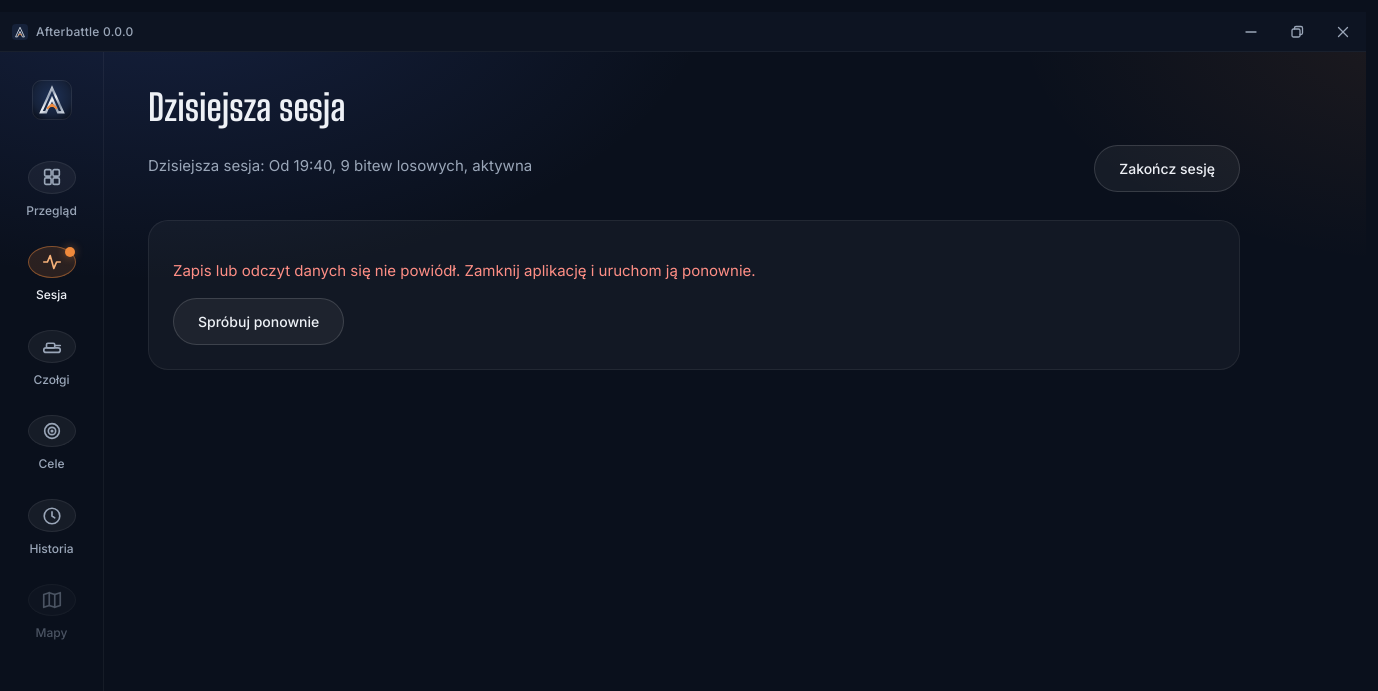
Test case: Session screen › explains an error and retries
Check: the message shows "Zapis lub odczyt danych się nie powiódł", box [173,261,756,280]
Click the button "Spróbuj ponownie". click: x=259, y=321
box: [173,298,344,345]
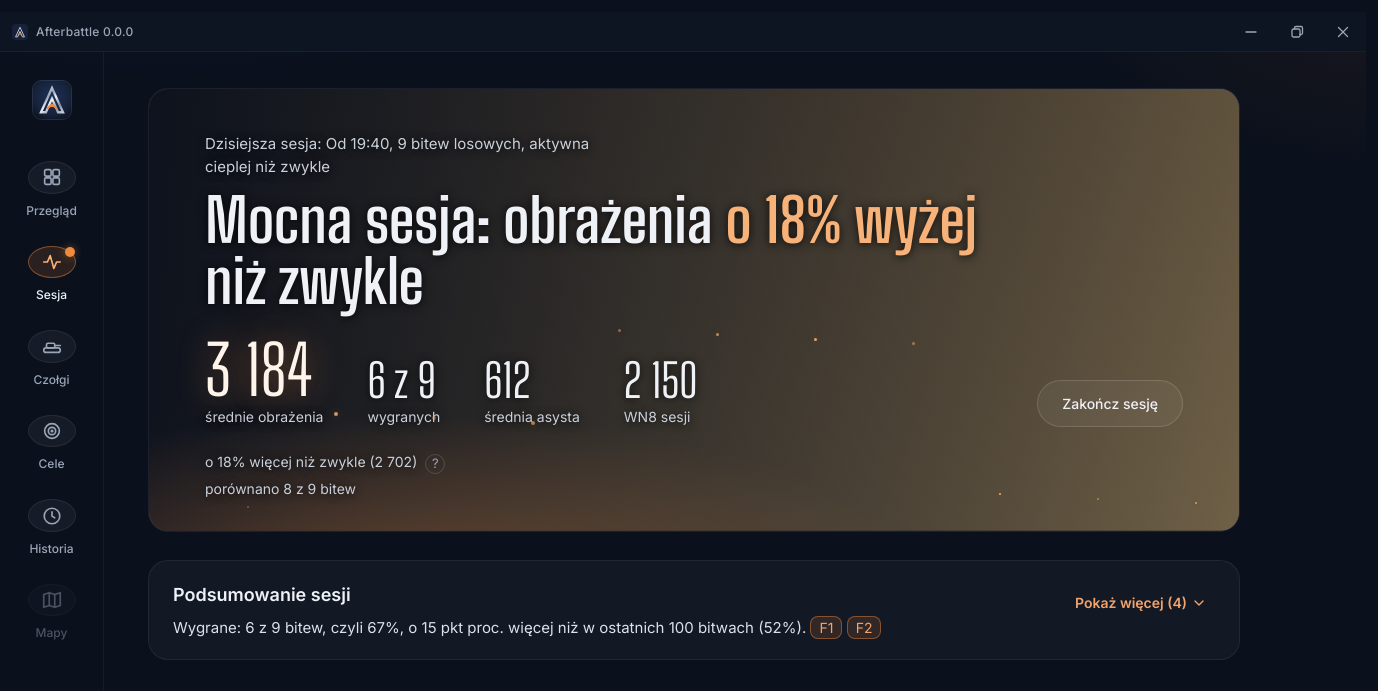
Check: the text "3 184" is shown, box [205,336,324,404]
